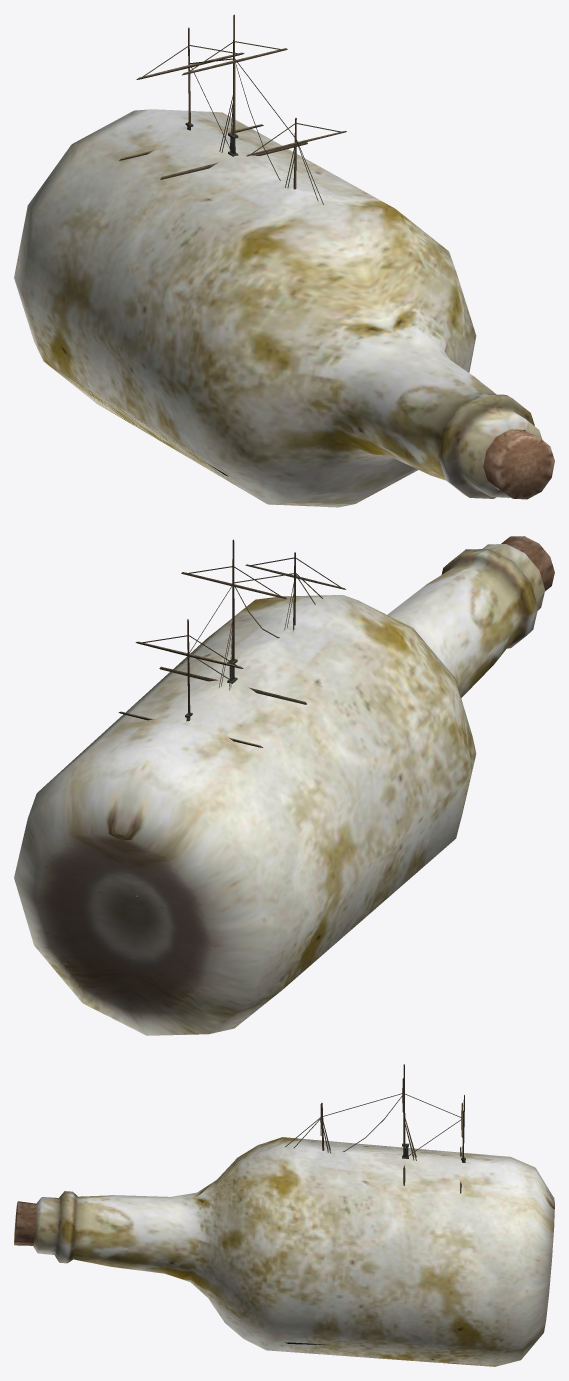
File: Bottle_Ship04.fbx
3 views of the same model, one above another, from view 1: azimuth 30°, elevation 25°; view 2: azimuth 150°, elevation 25°; view 3: azimuth 270°, elevation 25° (orthographic). The views are drawn at different scales.
Visible parts, largest first — view 1: bottle_02, bottle_cap_02, U_Ship_05; view 2: bottle_02, U_Ship_05, bottle_cap_02; view 3: bottle_02, U_Ship_05, bottle_cap_02.
Part boxes in pixels (x1=…): bottle_02: x1=14, y1=109, x2=542, y2=507; bottle_cap_02: x1=483, y1=429, x2=554, y2=499; U_Ship_05: x1=119, y1=14, x2=346, y2=204; bottle_02: x1=14, y1=544, x2=545, y2=1035; U_Ship_05: x1=118, y1=539, x2=345, y2=897; bottle_cap_02: x1=501, y1=536, x2=554, y2=591; bottle_02: x1=33, y1=1137, x2=554, y2=1366; U_Ship_05: x1=285, y1=1064, x2=465, y2=1193; bottle_cap_02: x1=14, y1=1201, x2=36, y2=1245.
Size of the model in its own units: 0.1876 by 0.2827 by 0.4725.
